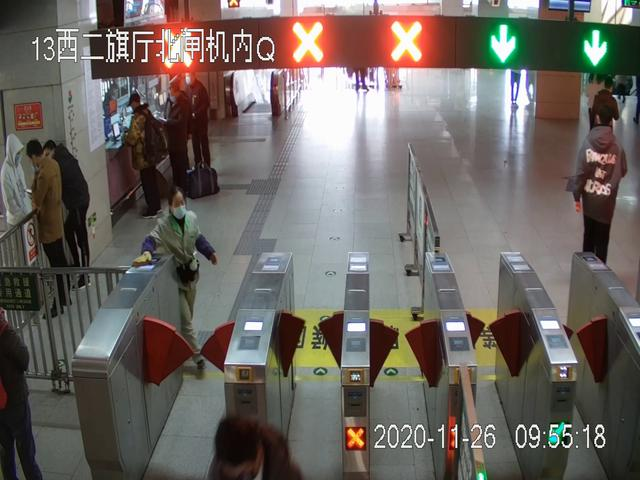person: (131, 185, 217, 372), (567, 103, 628, 273), (24, 141, 72, 319), (44, 141, 92, 291), (122, 92, 168, 219), (1, 133, 28, 300), (164, 82, 192, 188), (188, 71, 213, 171)
